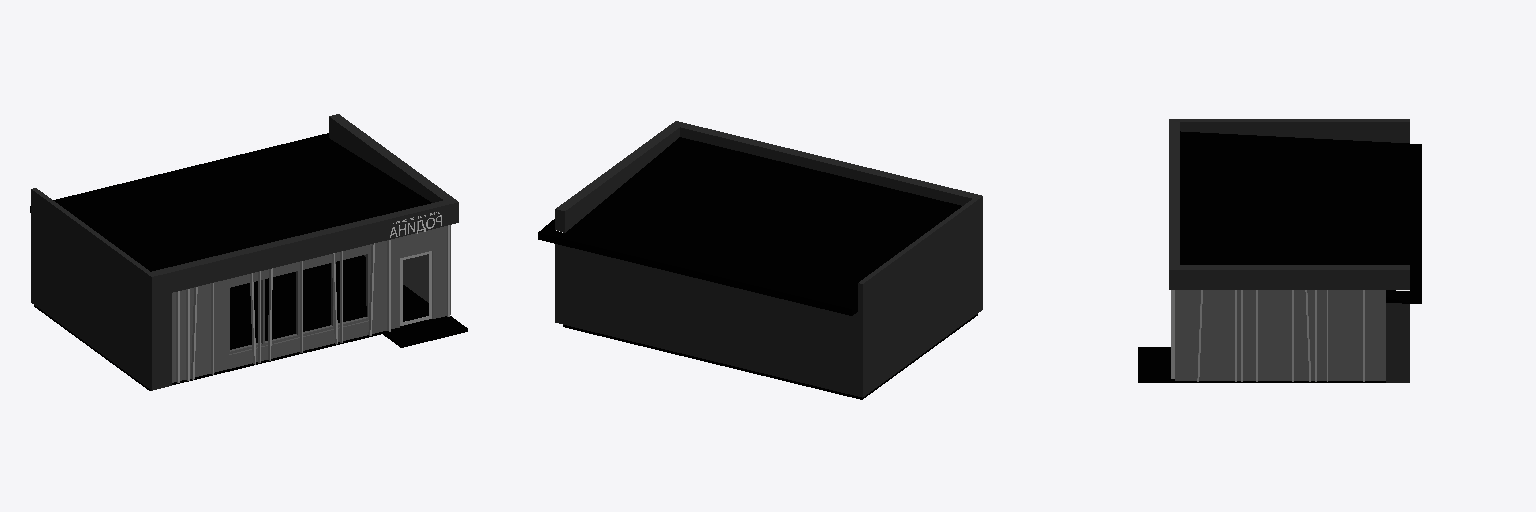
Rendered from rodina.obj.
The picture shows the model from 3 angles: view 1: azimuth 30°, elevation 25°; view 2: azimuth 150°, elevation 25°; view 3: azimuth 270°, elevation 25°; orthographic projection.
Parts seen in each view (by area): view 1: СКЕЧАП_2018_Офис_продаж_obj_1; view 2: СКЕЧАП_2018_Офис_продаж_obj_1; view 3: СКЕЧАП_2018_Офис_продаж_obj_1.
Part boxes in pixels (x1,y1,x2,y2): СКЕЧАП_2018_Офис_продаж_obj_1: (30,114,467,390); СКЕЧАП_2018_Офис_продаж_obj_1: (538,121,982,399); СКЕЧАП_2018_Офис_продаж_obj_1: (1138,119,1421,382).
Size of the model in its own units: 9723 by 3400 by 7450.